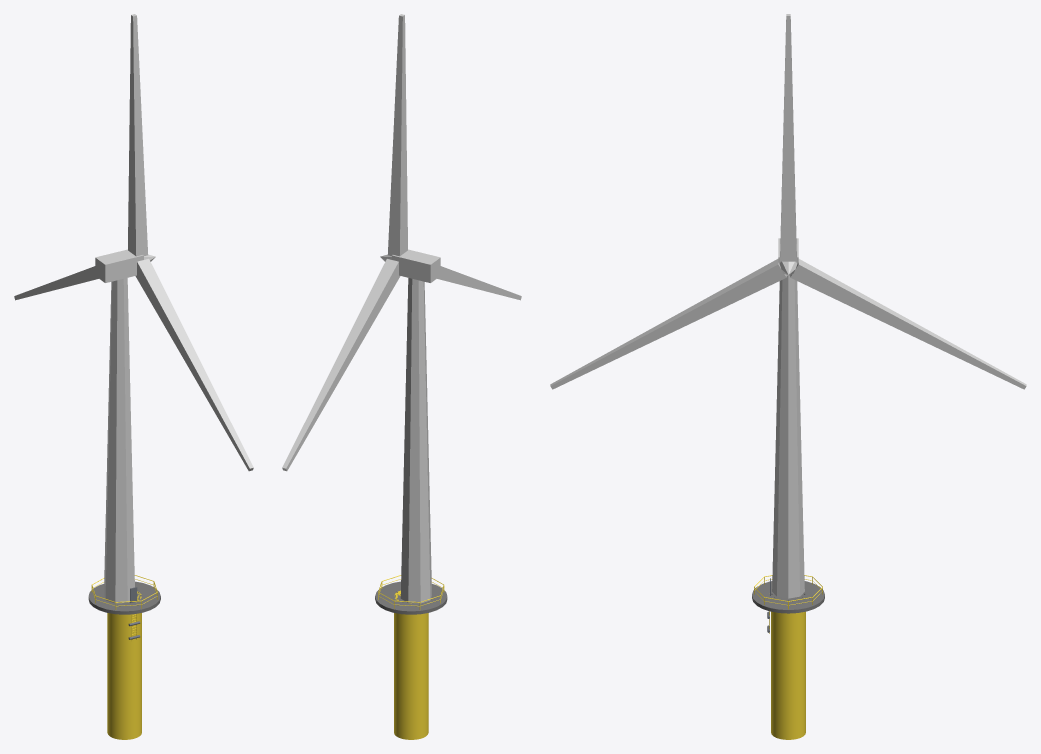
File: top-prebuilt_close.fbx
The picture shows the model from 3 angles, left to right: view 1: azimuth 30°, elevation 25°; view 2: azimuth 150°, elevation 25°; view 3: azimuth 270°, elevation 25°; orthographic projection.
Parts seen in each view (by area): view 1: a1071/0/top-prebuilt_close, rotor_a1071_close; view 2: a1071/0/top-prebuilt_close, rotor_a1071_close; view 3: a1071/0/top-prebuilt_close, rotor_a1071_close.
Boxes of the visible parts, x1,y1,x2,y2 form: a1071/0/top-prebuilt_close: (88,249,160,739); rotor_a1071_close: (14,14,253,471); a1071/0/top-prebuilt_close: (375,249,447,739); rotor_a1071_close: (282,14,521,471); a1071/0/top-prebuilt_close: (752,238,824,739); rotor_a1071_close: (550,14,1026,389).
Size of the model in its own units: 9.63 by 105 by 62.6.
